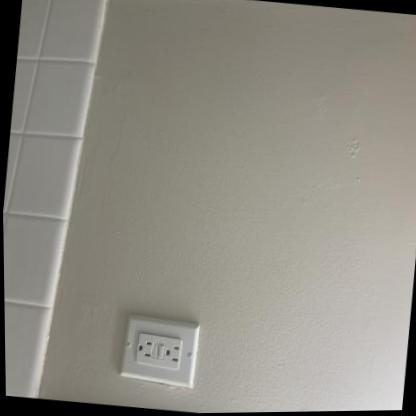OUTLET: (118, 313, 199, 389)
